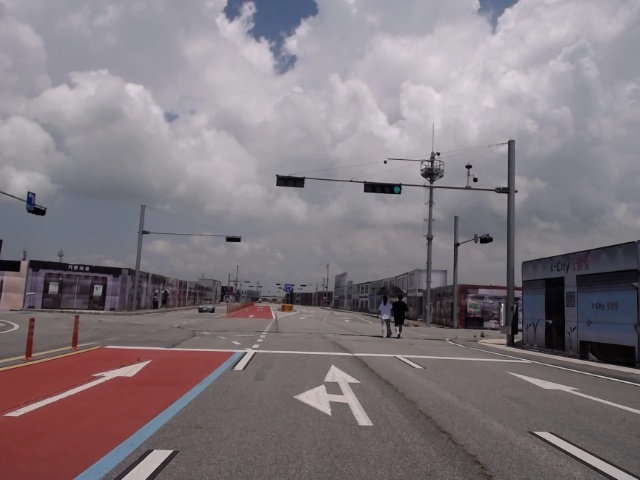straight_green_4: (365, 181, 402, 195)
